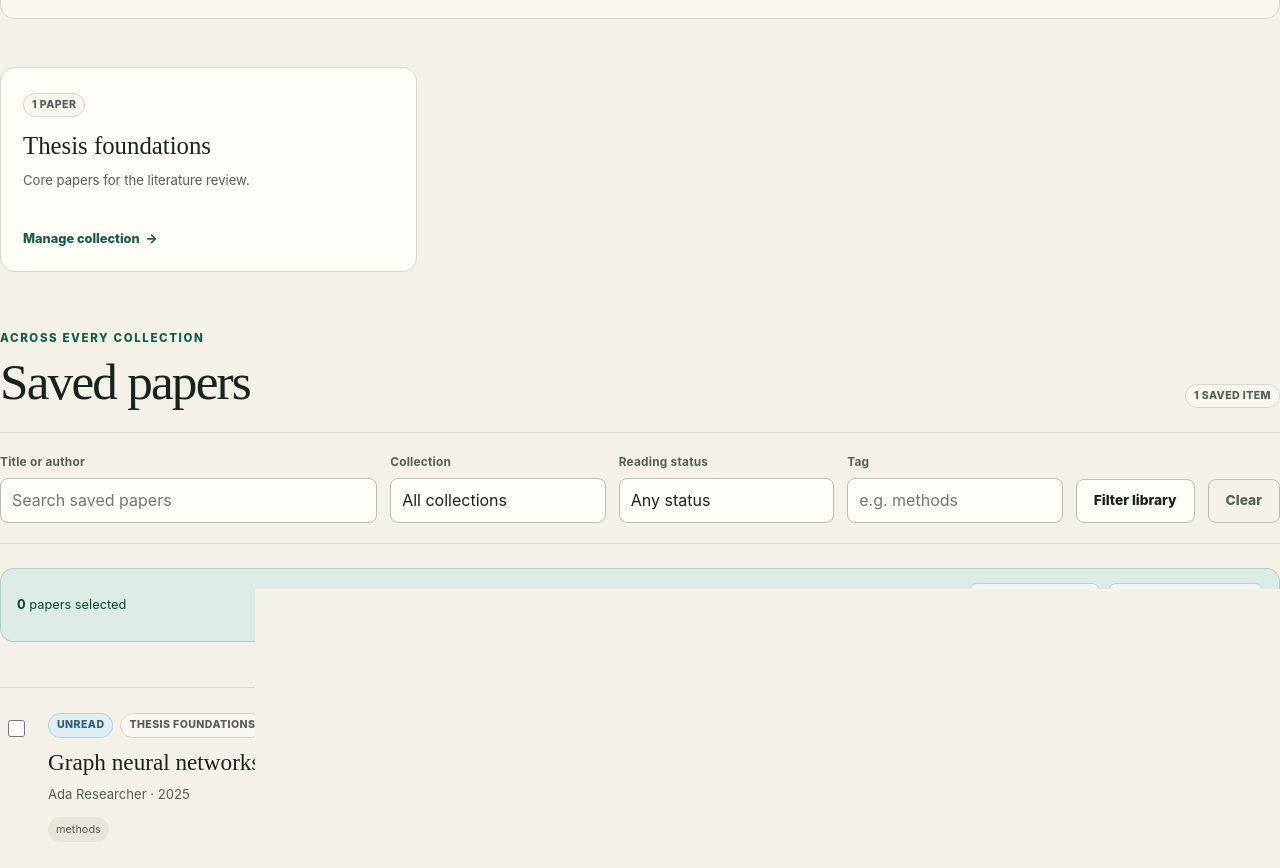
Test case: LibraryDashboard › exports a selected canonical paper as a bounded BibTeX request
The image size is (1280, 868).
(page scrolled)
Click the checkbox. click: (16, 729)
box: top-left (8, 720), bottom-right (25, 737)
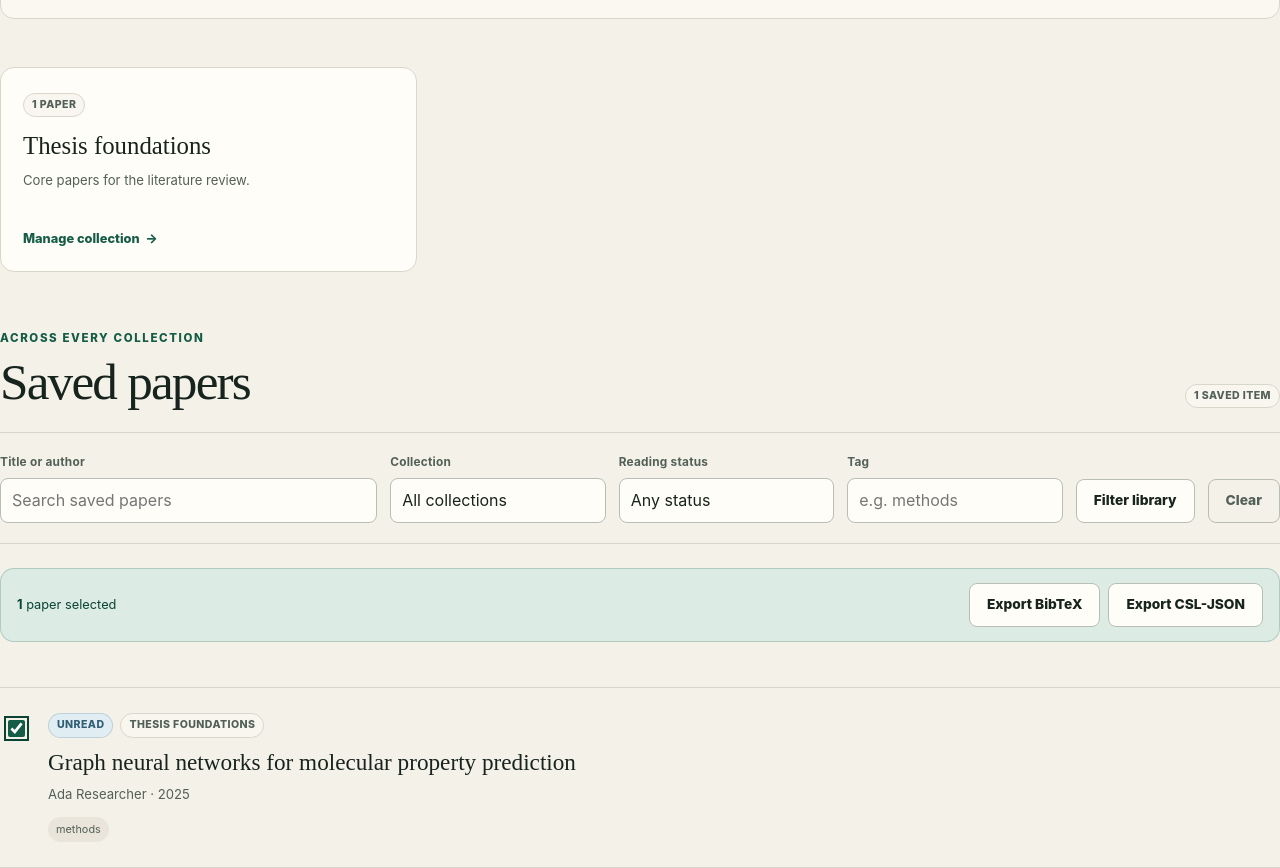
Click the button "Export BibTeX". click: (1035, 604)
box: top-left (969, 582), bottom-right (1100, 626)
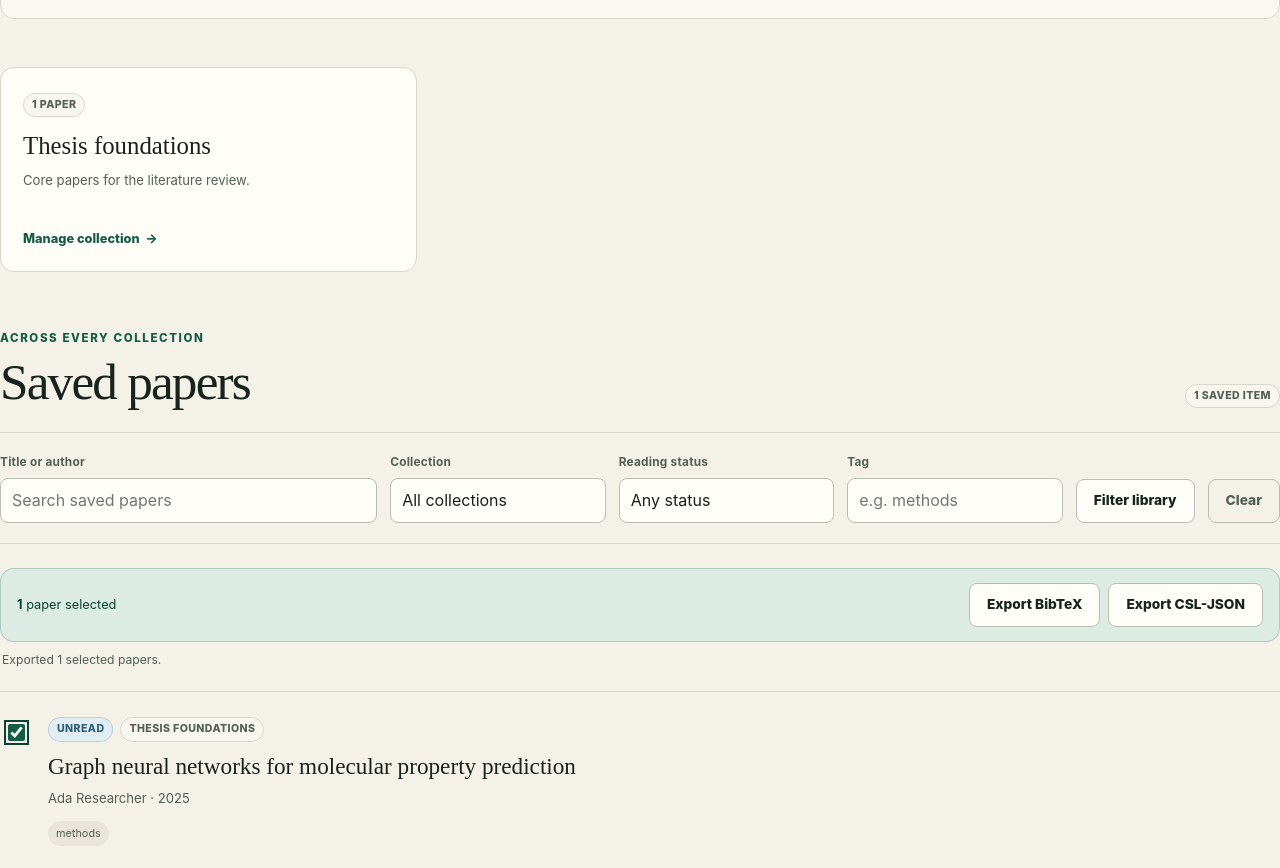
Check: the text "Exported 1 selected papers." is shown, box top-left (2, 652), bottom-right (161, 666)
